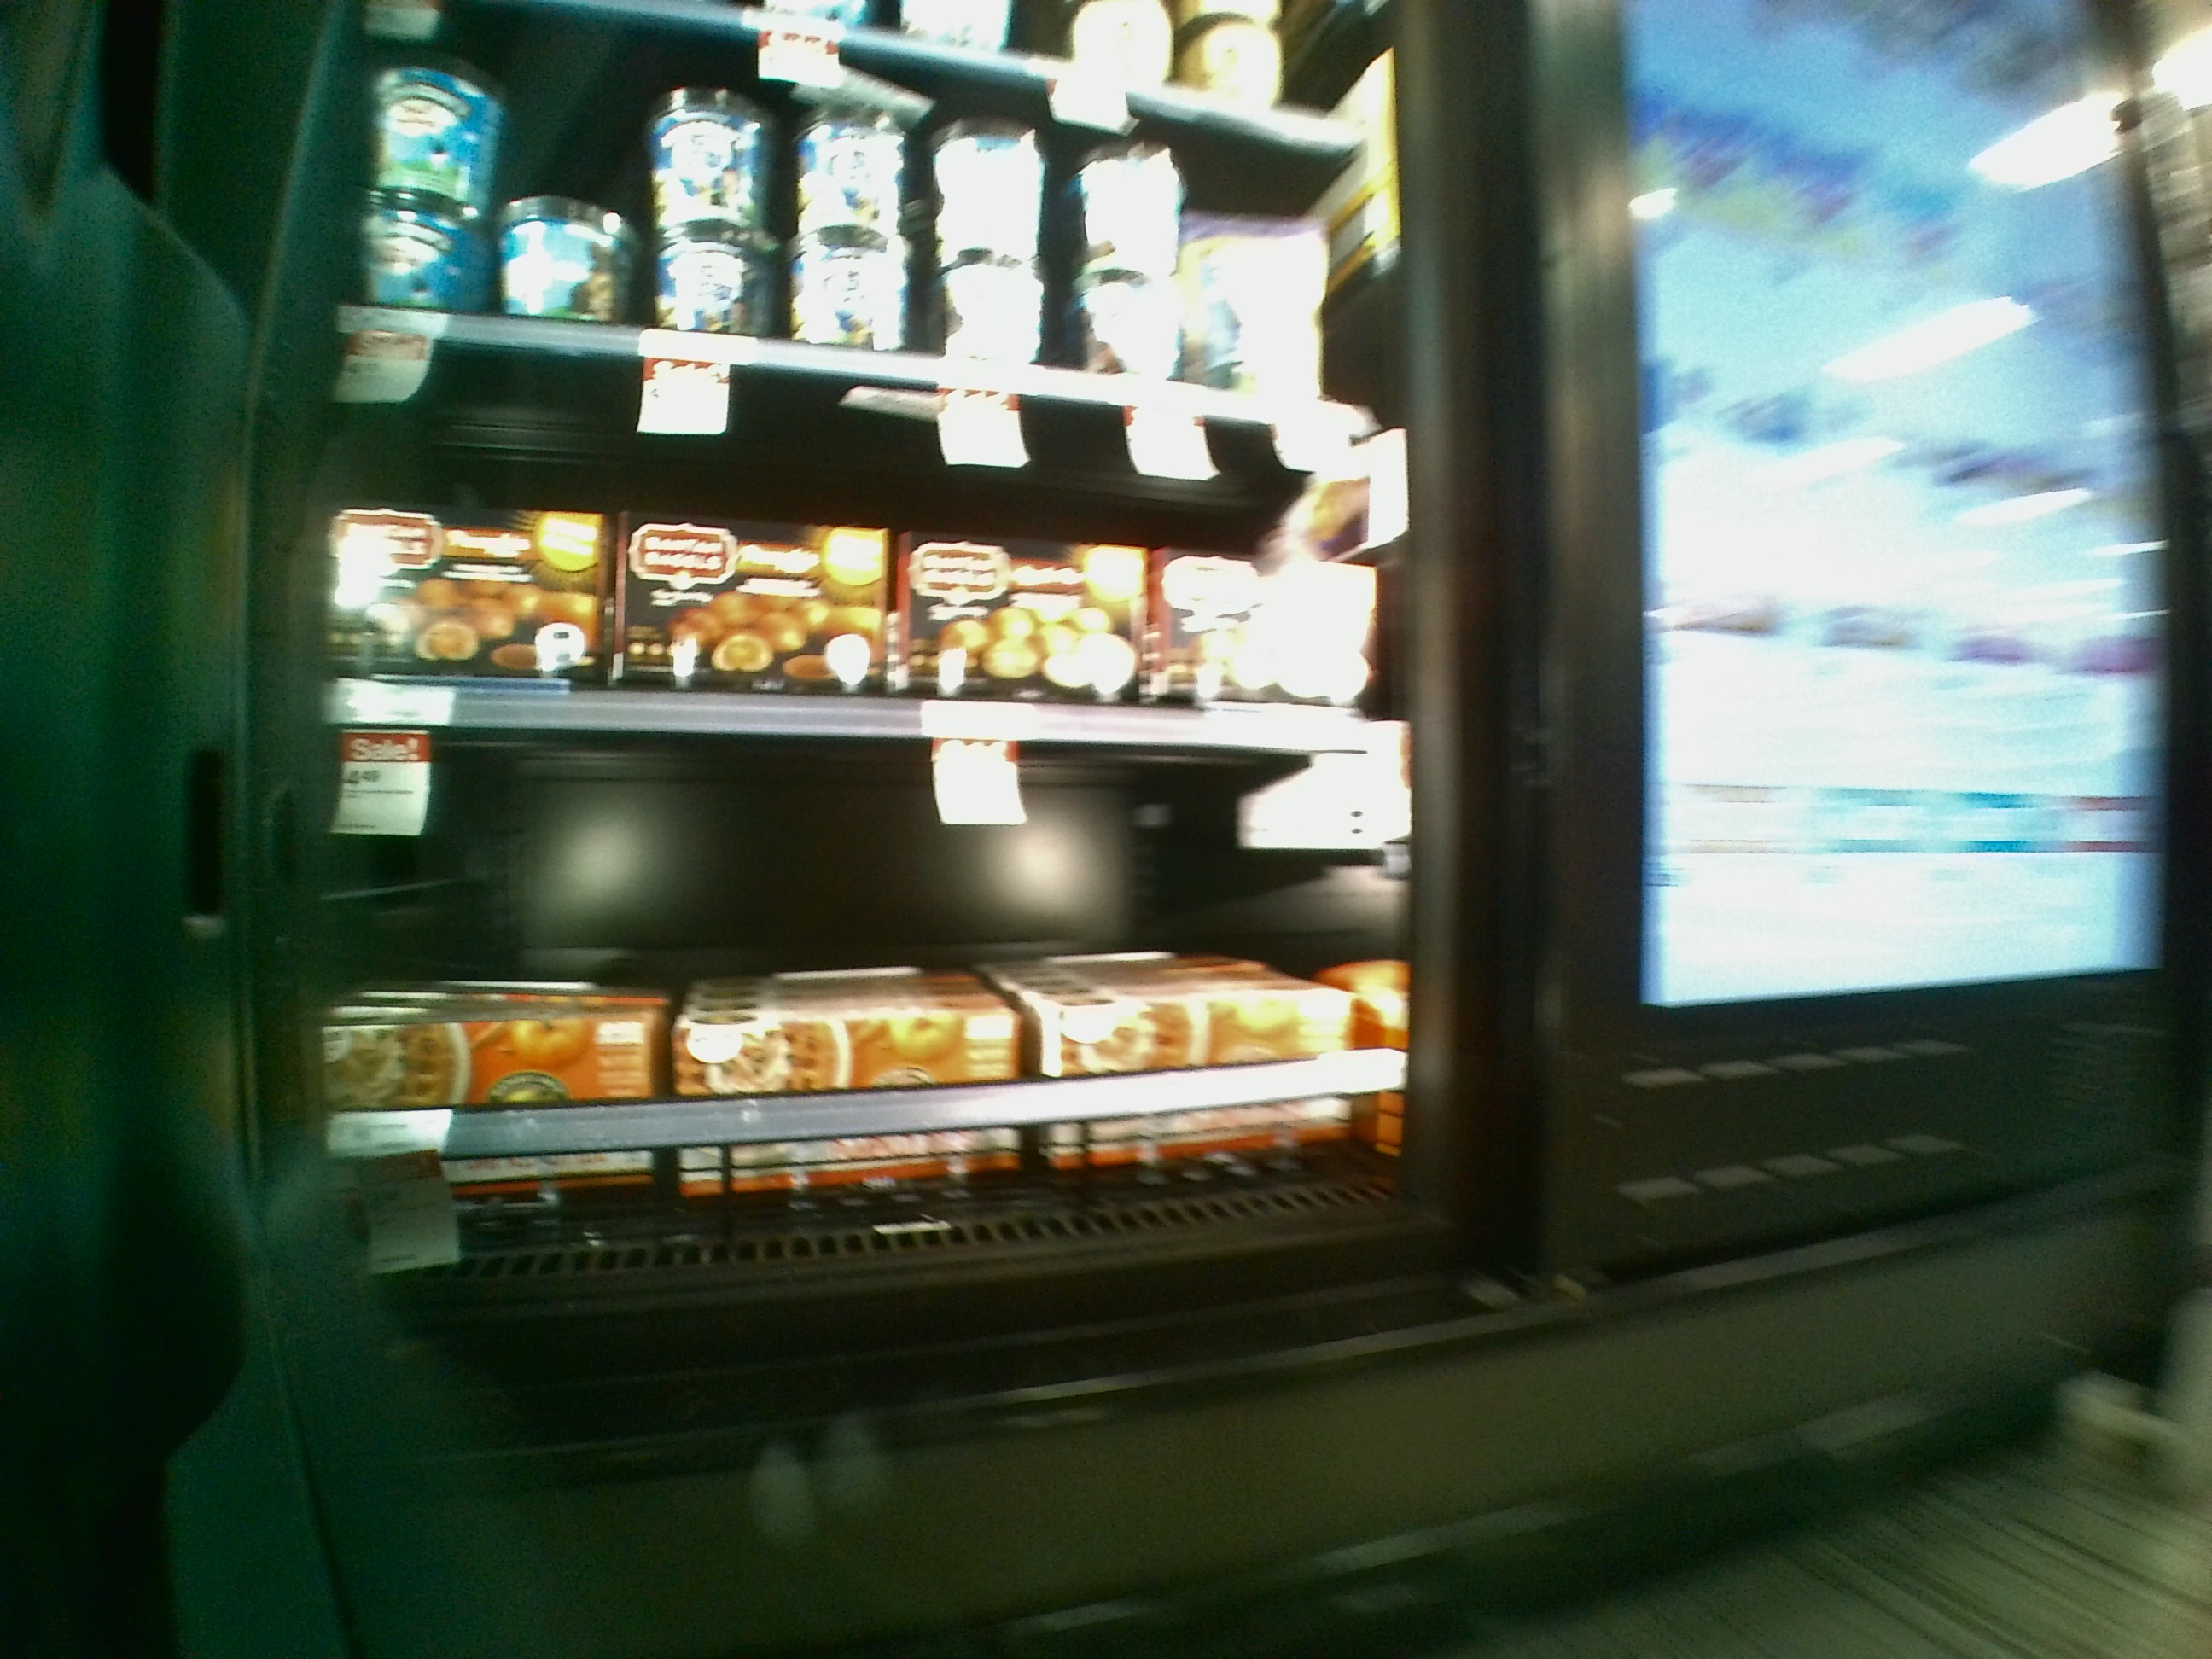shelf: (275, 721, 1474, 1290), (298, 342, 1416, 755)
